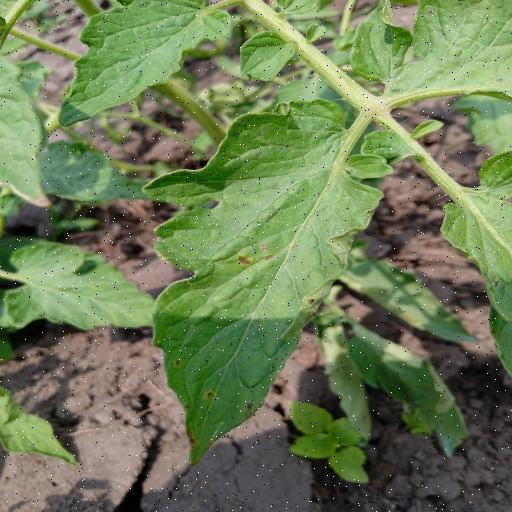Tomato_Mildiou: (135, 106, 394, 475)
